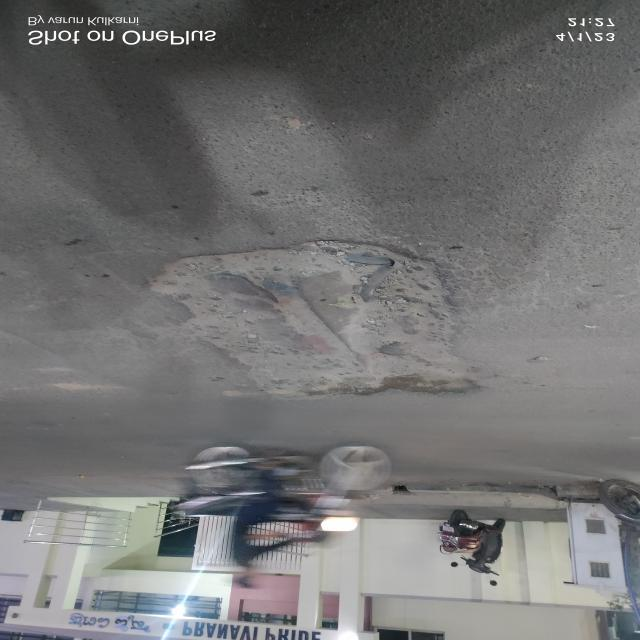potholes: (147, 259, 475, 396)
